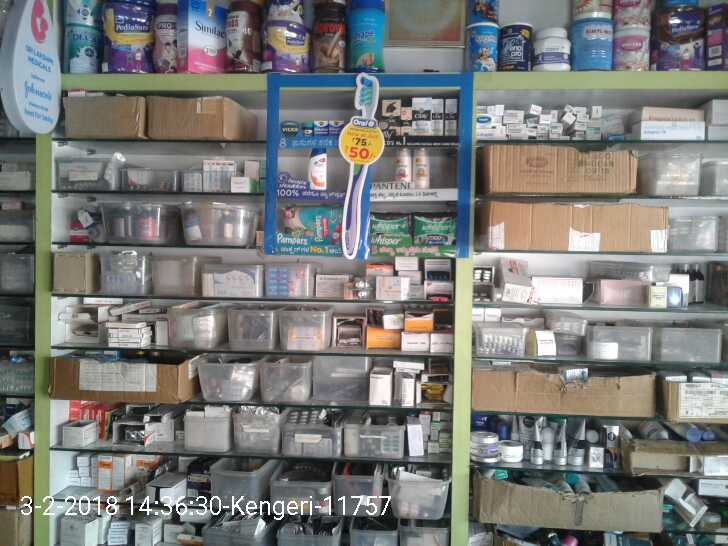beauty: (310, 144, 333, 192), (429, 93, 454, 136), (412, 143, 430, 192), (390, 148, 409, 189), (383, 98, 402, 137), (414, 98, 430, 135)
pharmacy: (281, 199, 344, 248), (364, 207, 413, 246), (416, 211, 452, 246), (310, 116, 344, 139)
